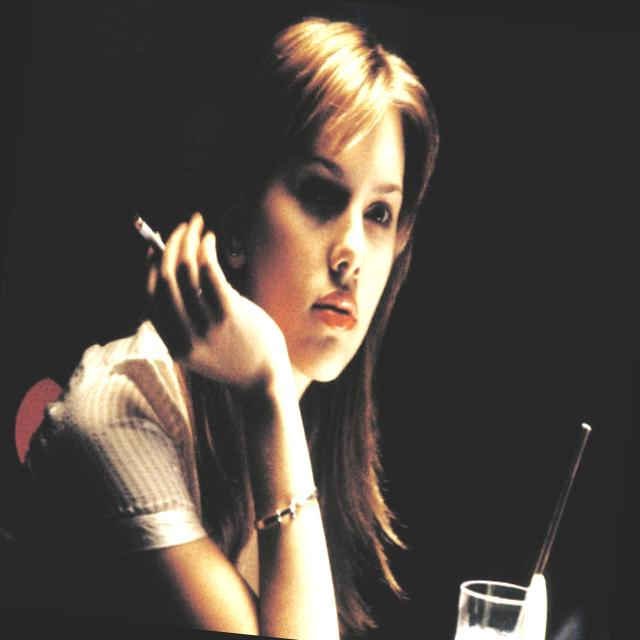cigarette: (126, 210, 172, 257)
